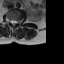CCS_normal: (12, 18, 15, 27)
LFS_normal: (17, 19, 19, 24)
LLS_normal: (15, 19, 17, 24)
RFS_normal: (8, 18, 10, 24)
RLS_normal: (10, 18, 12, 25)
